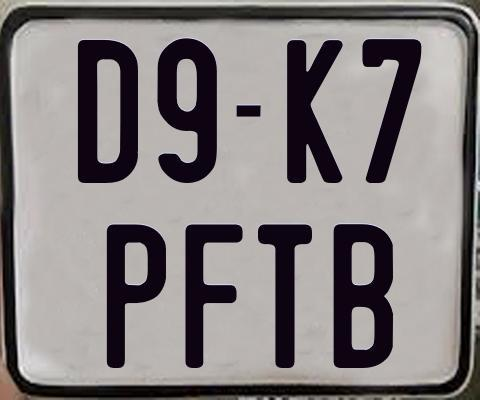7: (360, 38, 420, 182)
9: (154, 36, 220, 186)
B: (332, 222, 397, 372)
D: (78, 39, 142, 186)
F: (185, 223, 246, 371)
K: (284, 37, 346, 184)
P: (105, 221, 167, 369)
T: (257, 222, 314, 369)
